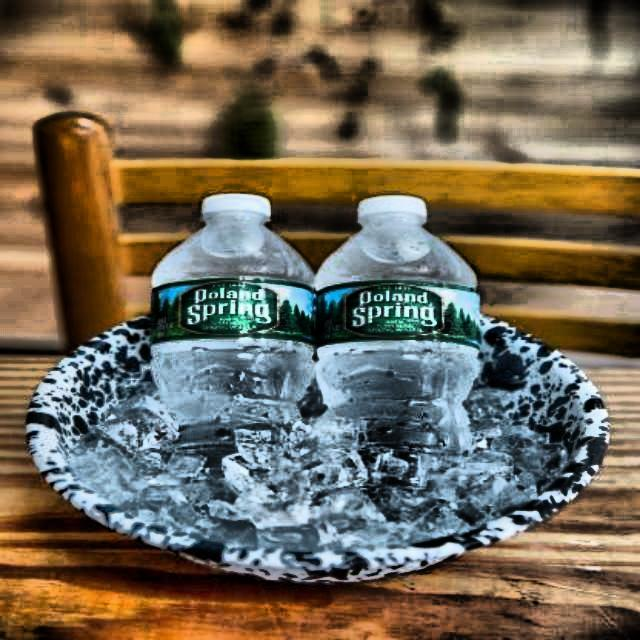Bottles: (133, 173, 329, 545)
